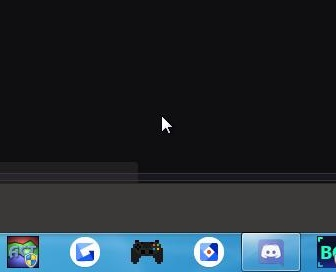cursor: (157, 114, 176, 138)
